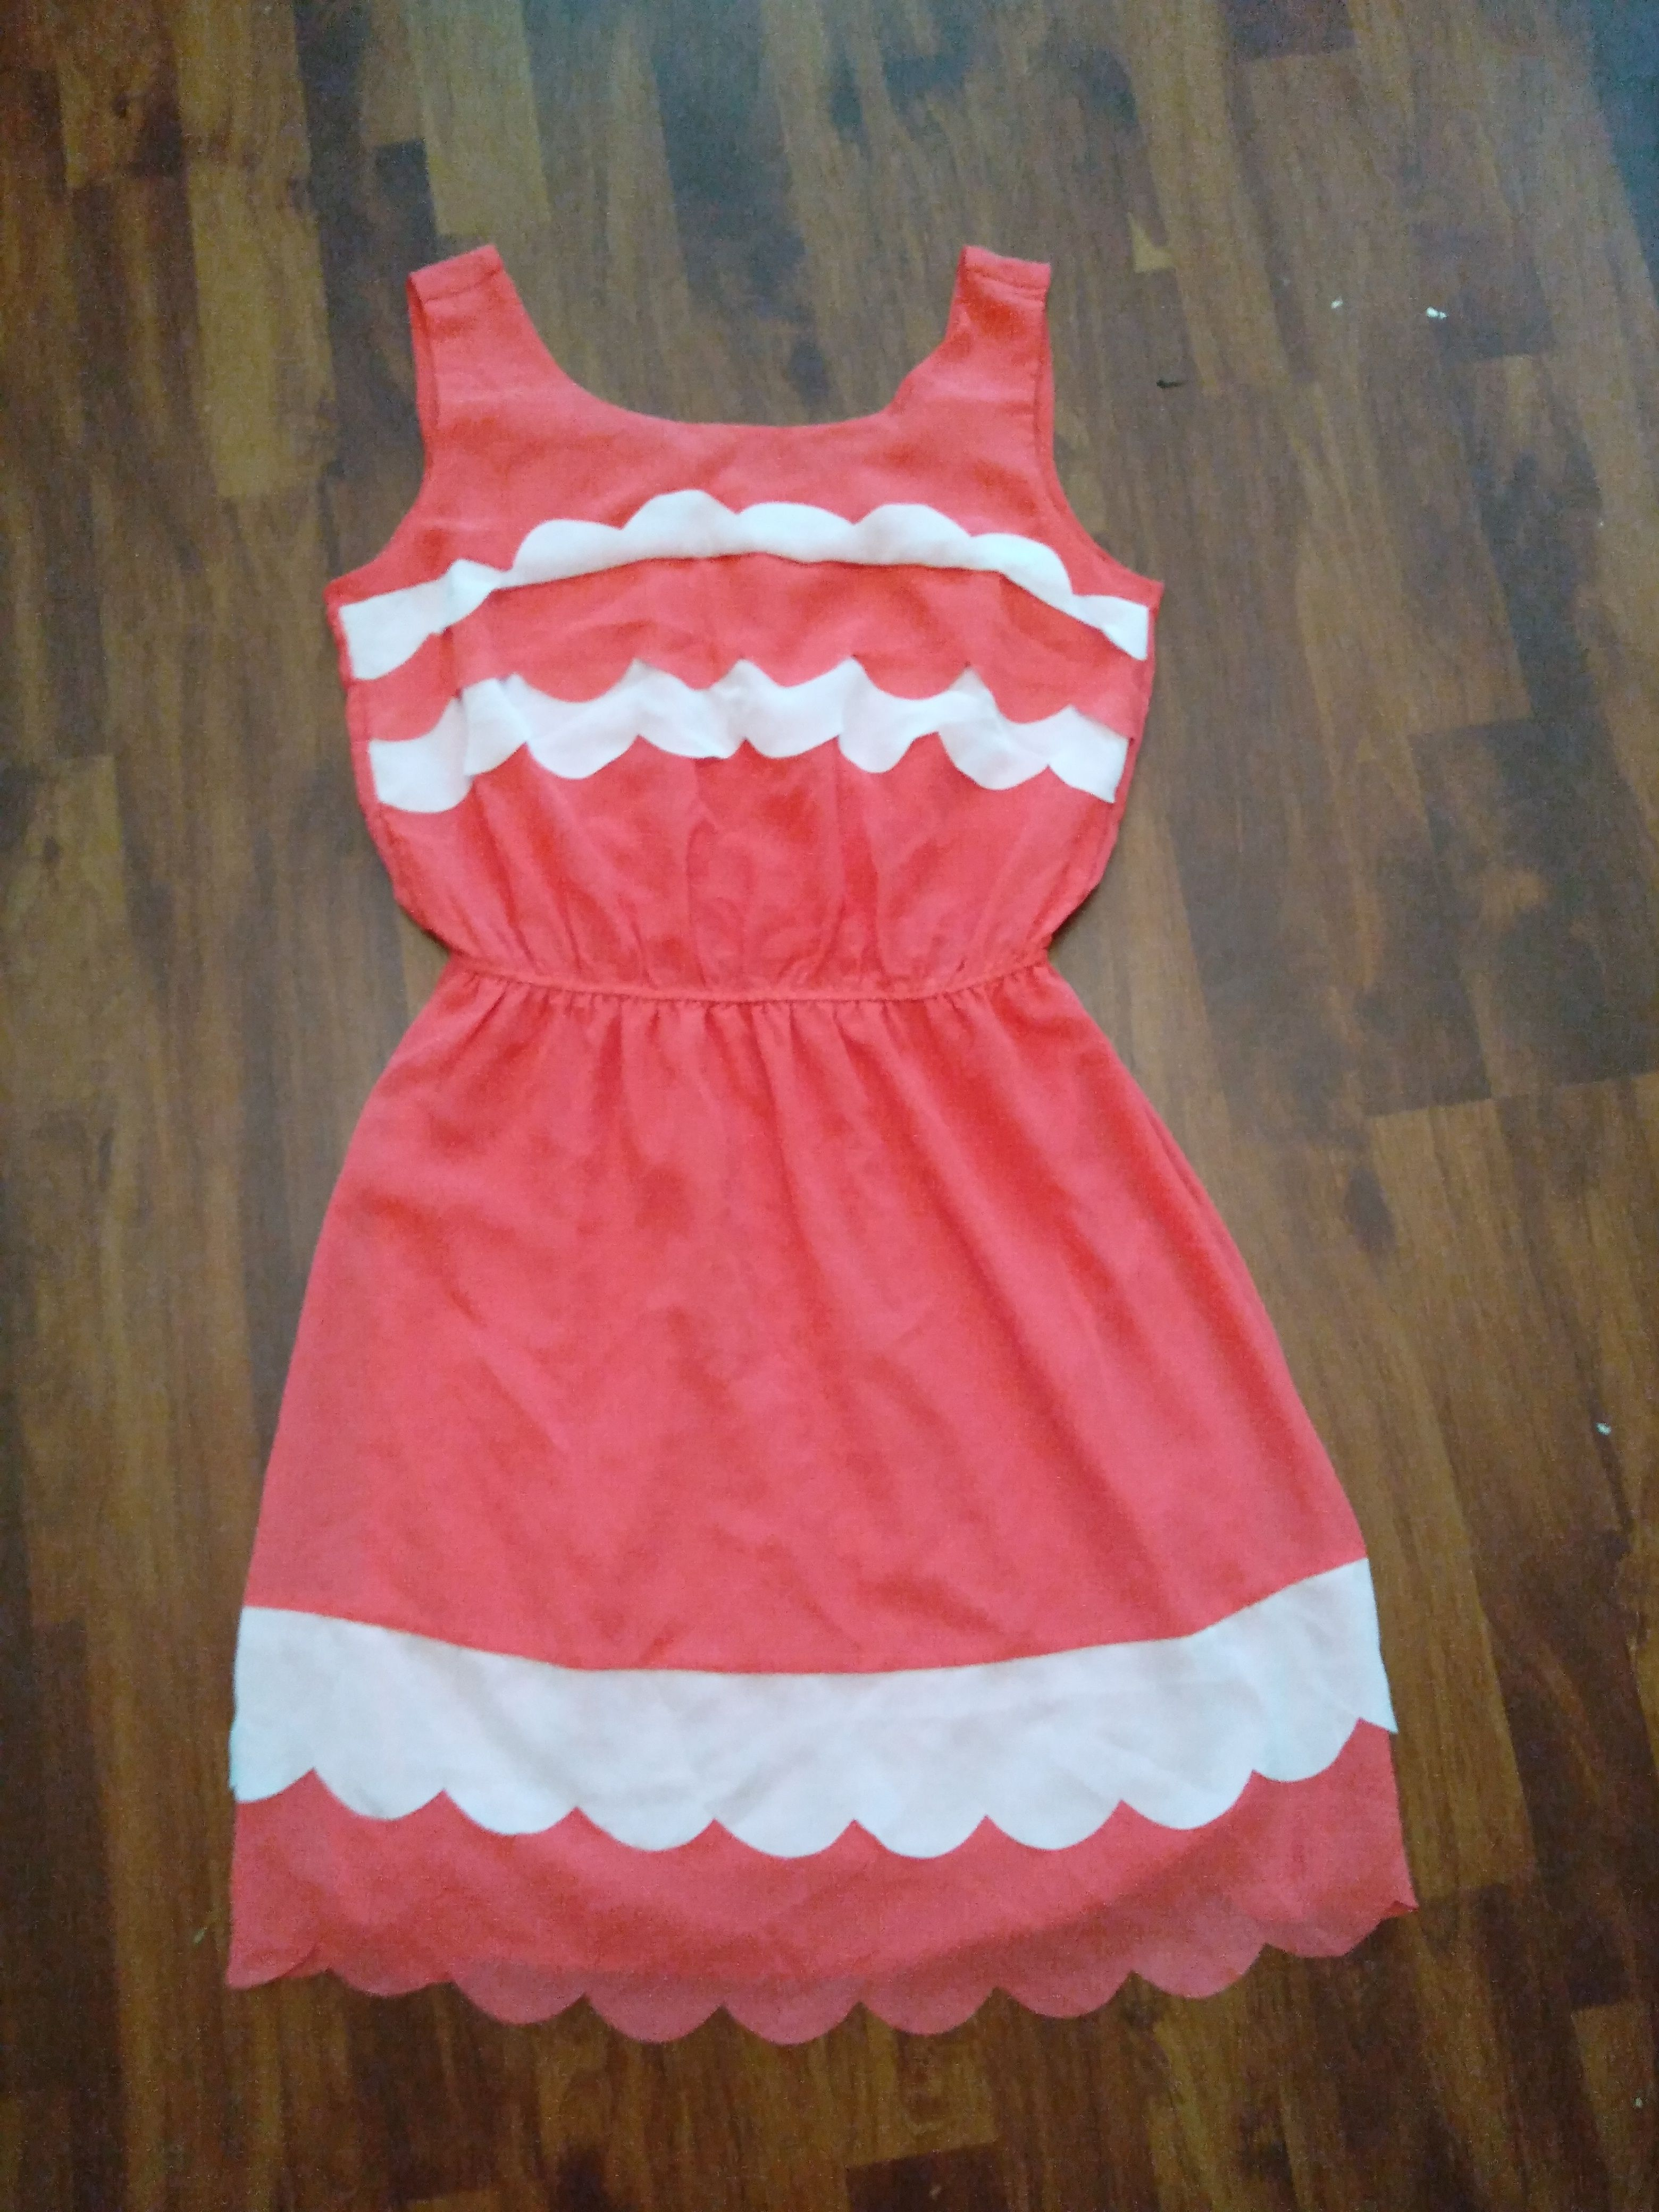clothes: (240, 219, 1445, 1996)
